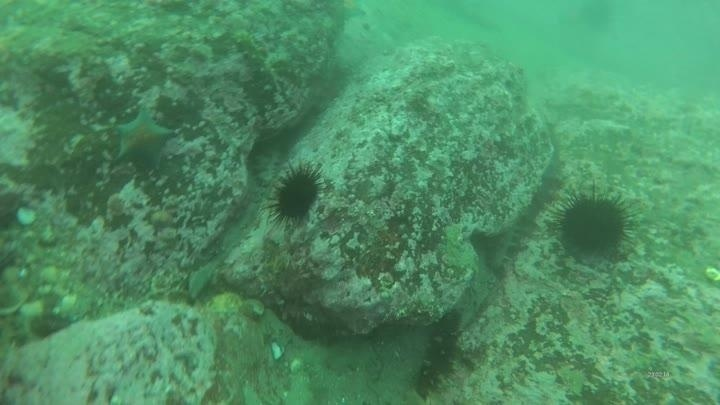echinus: (550, 188, 636, 261), (266, 162, 327, 227)
holothurian: (411, 308, 465, 399), (484, 198, 527, 274), (230, 27, 270, 74)
starfish: (110, 106, 178, 172), (330, 1, 370, 23)
